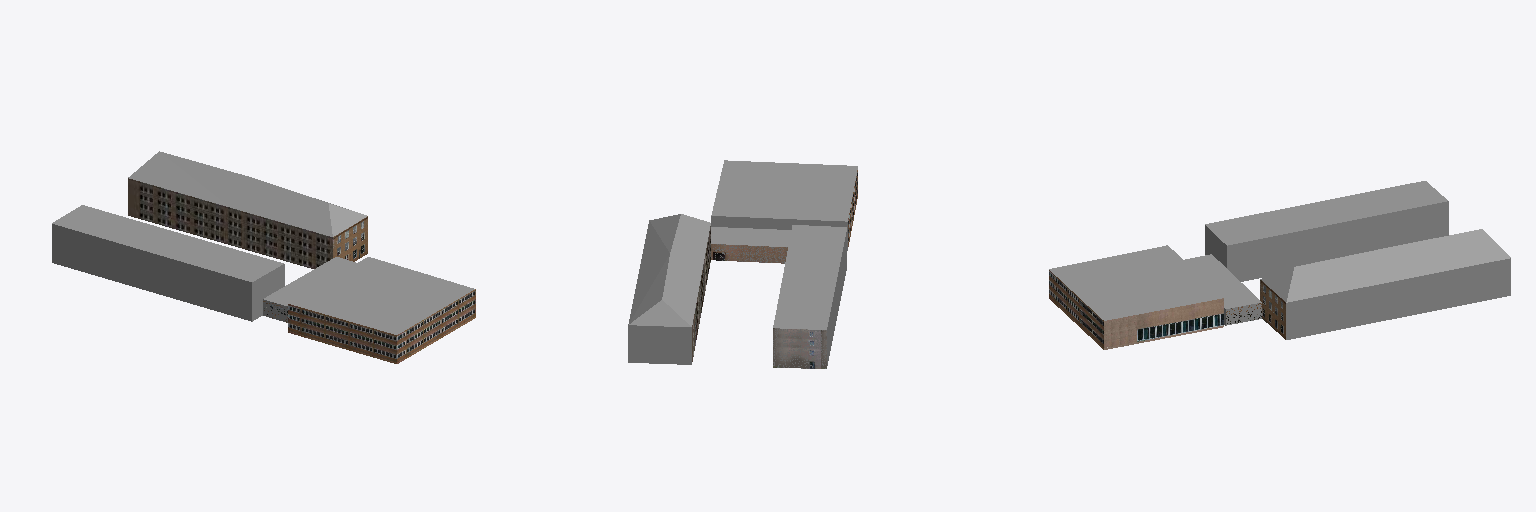
The picture shows the model from 3 angles: view 1: azimuth 30°, elevation 25°; view 2: azimuth 150°, elevation 25°; view 3: azimuth 270°, elevation 25°; orthographic projection.
Parts seen in each view (by area): view 1: instance_0.005_ID69, instance_2_ID156, instance_3.004_ID265, instance_4_ID286, instance_0.002_ID35, instance_2.001_ID169, instance_1.001_ID102, instance_3.002_ID239, instance_0.004_ID56; view 2: instance_2_ID156, instance_4_ID286, instance_0.002_ID35, instance_3_ID220, instance_0.001_ID17, instance_1.001_ID102, instance_1_ID84, instance_2.003_ID192, instance_0.005_ID69, instance_3.004_ID265; view 3: instance_3.003_ID252, instance_4_ID286, instance_0.003_ID43, instance_2_ID156, instance_0.002_ID35, instance_2.004_ID205, instance_1.001_ID102, instance_2.001_ID169, instance_3.002_ID239, instance_1.004_ID141, instance_0.004_ID56.
Part boxes in pixels (x1,y1,x2,y2): instance_0.005_ID69: (52,224,251,321); instance_2_ID156: (289,257,474,334); instance_3.004_ID265: (128,178,332,268); instance_4_ID286: (128,151,366,236); instance_0.002_ID35: (52,205,283,281); instance_2.001_ID169: (288,289,475,363); instance_1.001_ID102: (264,257,355,305); instance_3.002_ID239: (333,216,367,261); instance_0.004_ID56: (252,264,284,321); instance_2_ID156: (711,160,857,221); instance_4_ID286: (628,214,710,326); instance_0.002_ID35: (773,225,846,329); instance_3_ID220: (628,325,691,364); instance_0.001_ID17: (773,328,826,368); instance_1.001_ID102: (711,227,790,246); instance_1_ID84: (711,244,787,263); instance_2.003_ID192: (711,216,847,250); instance_0.005_ID69: (827,232,846,365); instance_3.004_ID265: (692,226,710,361); instance_3.003_ID252: (1286,258,1510,339); instance_4_ID286: (1260,229,1510,302); instance_0.003_ID43: (1227,201,1448,281); instance_2_ID156: (1049,245,1223,320); instance_0.002_ID35: (1205,181,1447,245); instance_2.004_ID205: (1104,298,1223,349); instance_1.001_ID102: (1184,254,1261,308); instance_2.001_ID169: (1049,270,1103,349); instance_3.002_ID239: (1260,280,1285,339); instance_1.004_ID141: (1226,303,1261,325); instance_0.004_ID56: (1205,225,1226,267).
Size of the model in its own units: 81.86 by 17.8 by 125.
23 materials, 8 textured.